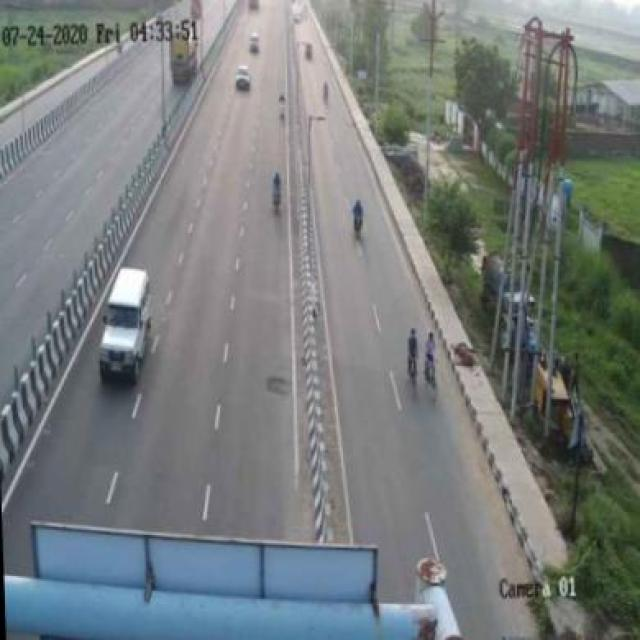car: (88, 259, 160, 389)
